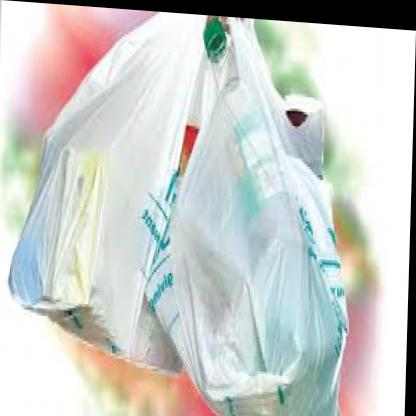Plastic: (0, 1, 254, 413), (160, 20, 366, 416)
